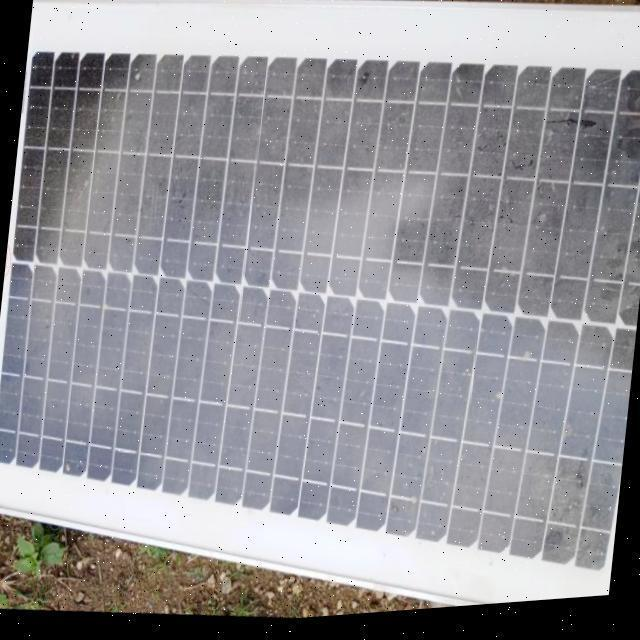Anomaly Solar Panel: (0, 0, 640, 620)
Surface Contaminant: (0, 27, 640, 507)
